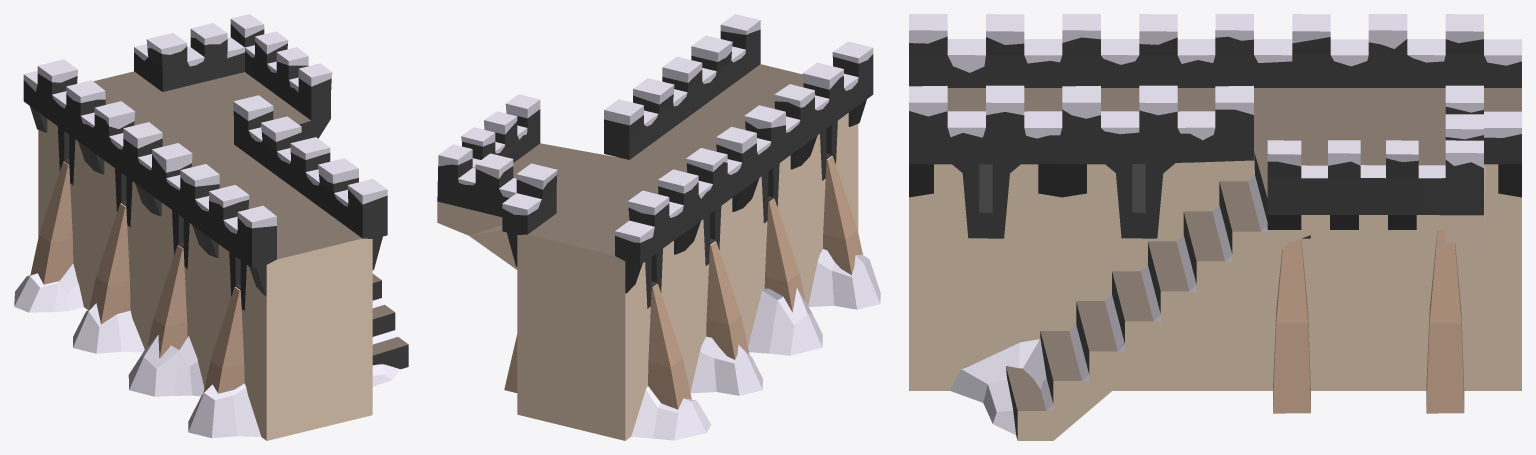
Rendered from wall-4.glb.
The picture shows the model from 3 angles, left to right: view 1: azimuth 30°, elevation 25°; view 2: azimuth 150°, elevation 25°; view 3: azimuth 270°, elevation 25°; orthographic projection. The views are drawn at different scales.
Parts seen in each view (by area): view 1: Wall4, Wall1.003; view 2: Wall4, Wall1.003; view 3: Wall4, Wall1.003.
Part boxes in pixels (x1,y1,x2,y2): Wall4: [23, 14, 408, 440]; Wall1.003: [14, 264, 400, 438]; Wall4: [437, 14, 873, 440]; Wall1.003: [631, 249, 880, 440]; Wall4: [909, 14, 1521, 440]; Wall1.003: [950, 339, 1046, 434].
Size of what is drawn, in the model's own units: 5.08 by 4.29 by 8.
Materials: 1 (1 with a texture image).
